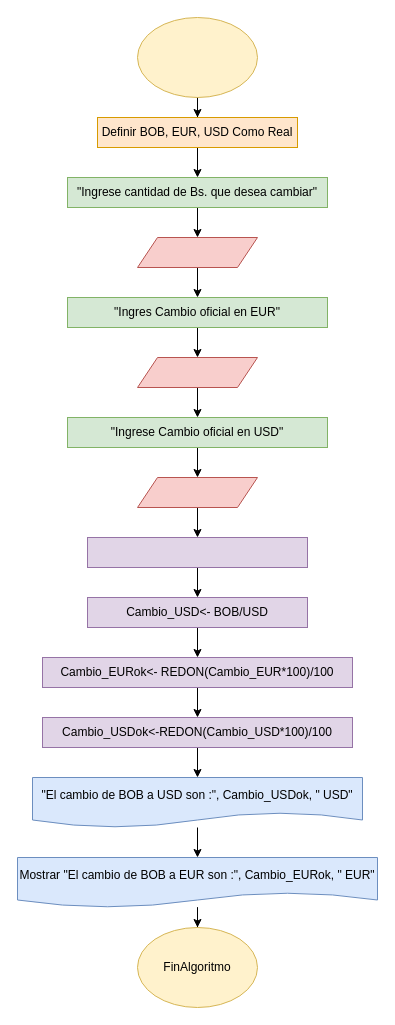
Image size: 395x1025. Some labels were removed from this diagram. The shapes that lost their labels are listed below. From the top down, each one's centre as x and y in pixels, then its label:
point (197, 57): Algoritmo eje14
point (197, 252): BOB
point (197, 372): EUR
point (197, 492): USD
point (197, 552): Cambio_EUR<- BOB/EUR
